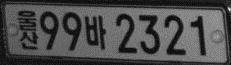1: (188, 14, 210, 55)
2: (115, 12, 137, 53), (163, 14, 185, 55)
3: (138, 14, 160, 54)
9: (61, 11, 82, 50), (39, 10, 59, 50)
바: (84, 15, 107, 50)
울산_V: (17, 10, 39, 50)
